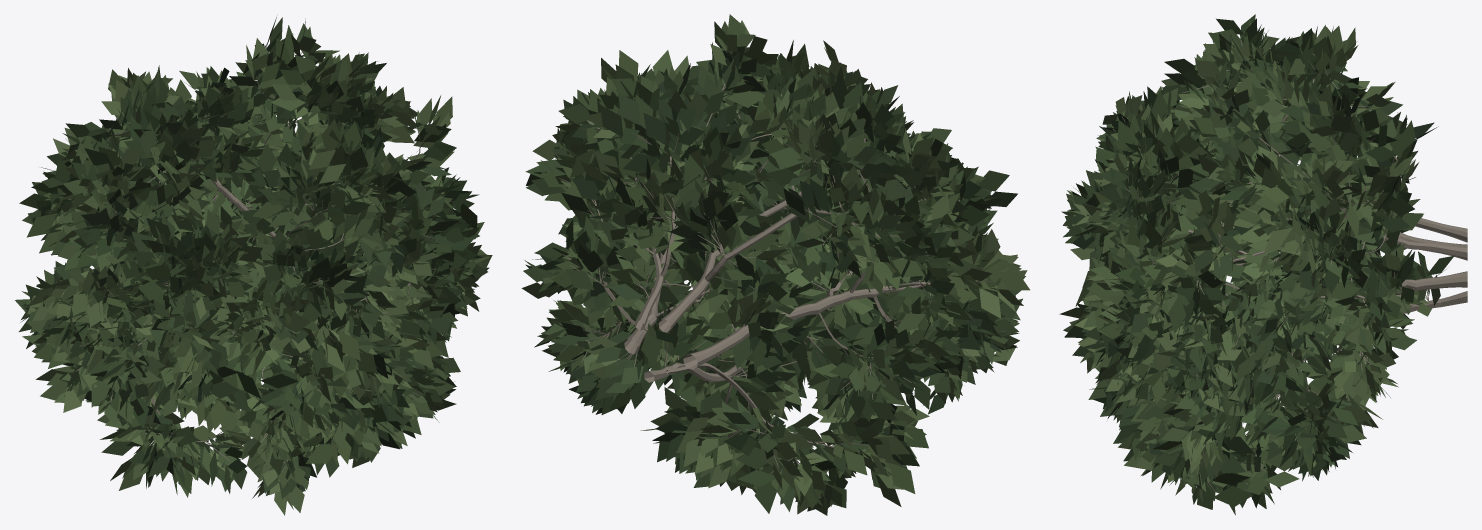
Rendered from tree_shrub_near_00.obj.
3 renders of one model, left to right at view 1: azimuth 30°, elevation 25°; view 2: azimuth 150°, elevation 25°; view 3: azimuth 270°, elevation 25°, orthographic. The views are drawn at different scales.
Visible parts, largest first — view 1: tree_shrub_near_00; view 2: tree_shrub_near_00; view 3: tree_shrub_near_00.
Part boxes in pixels (x1,y1,x2,y2): tree_shrub_near_00: [15, 17, 492, 515]; tree_shrub_near_00: [521, 14, 1029, 515]; tree_shrub_near_00: [1059, 14, 1467, 515].
Size of the model in its own units: 1.26 by 1.22 by 0.9911.
Materials: 1 (1 with a texture image).
